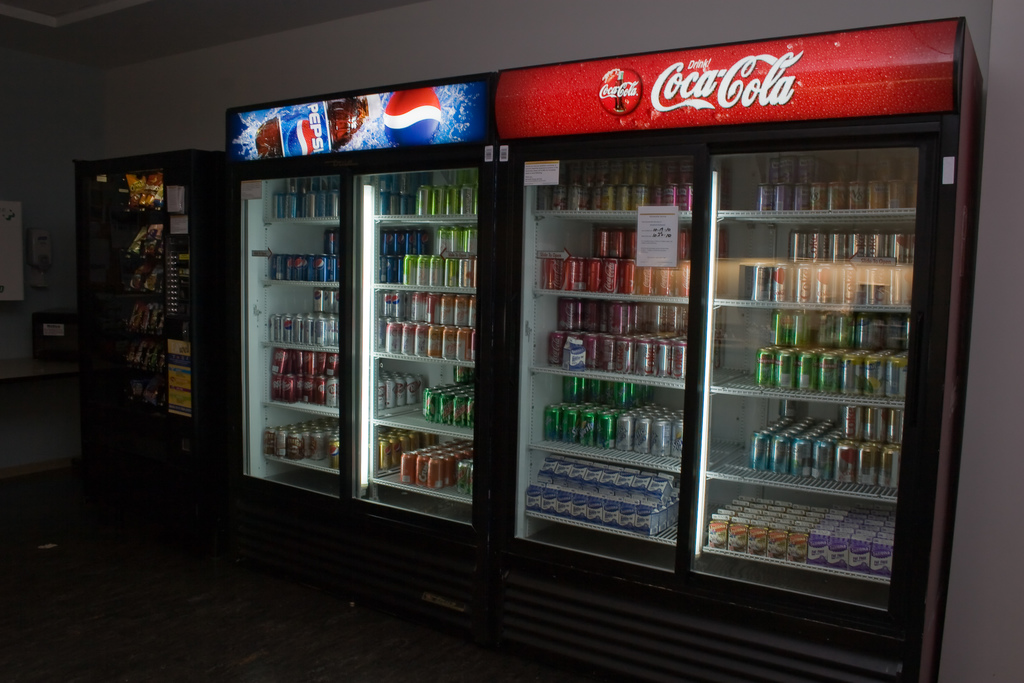refrigerator door: (700, 158, 900, 603), (510, 170, 683, 571), (354, 173, 498, 523), (239, 189, 355, 494)
